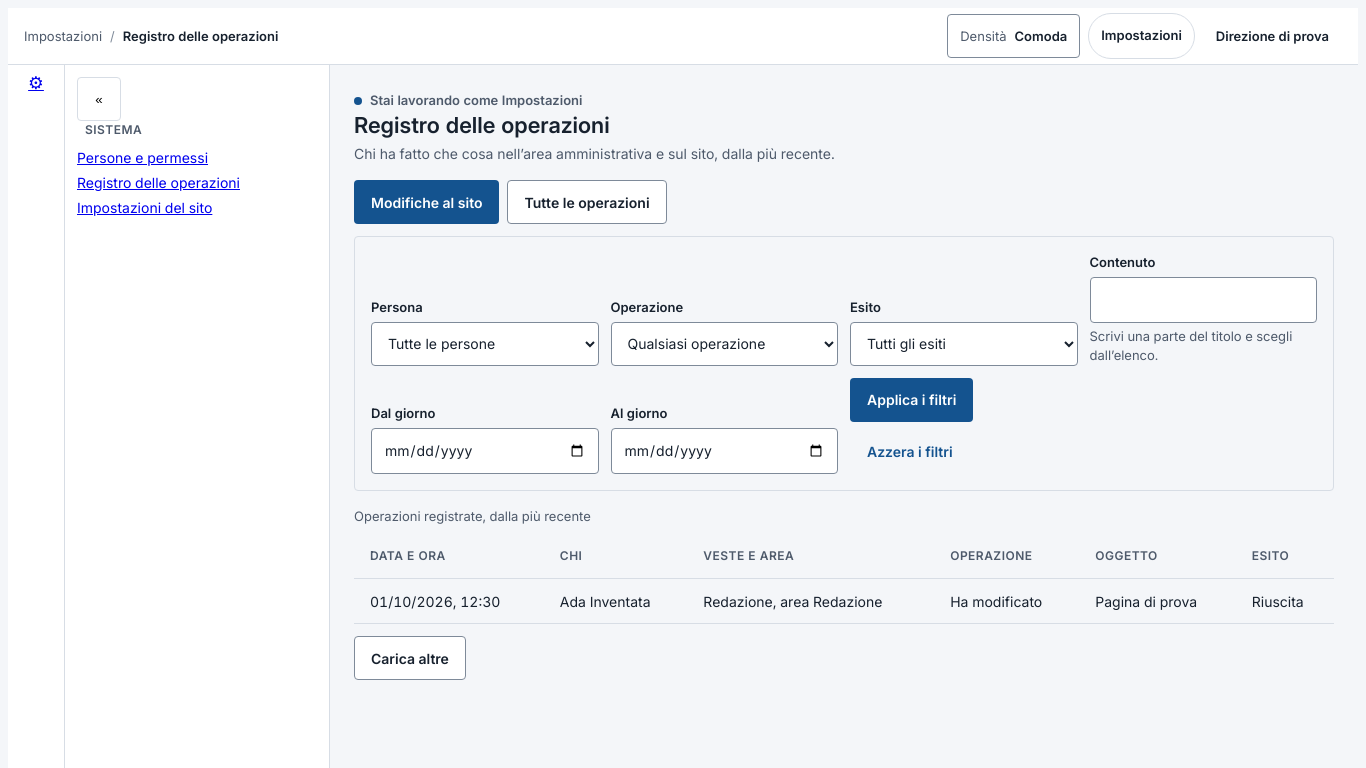
Test: registro delle operazioni › m1: un «Carica altre» fallito mostra l’errore, che sparisce se il nuovo tentativo riesce
Expected: the text "Ha modificato" is shown, [934,579,1079,624]
What coordinates should you click on to do the following:
click the button "Carica altre"
I would click on:
 (410, 658)
Its box is [354,636,466,680].
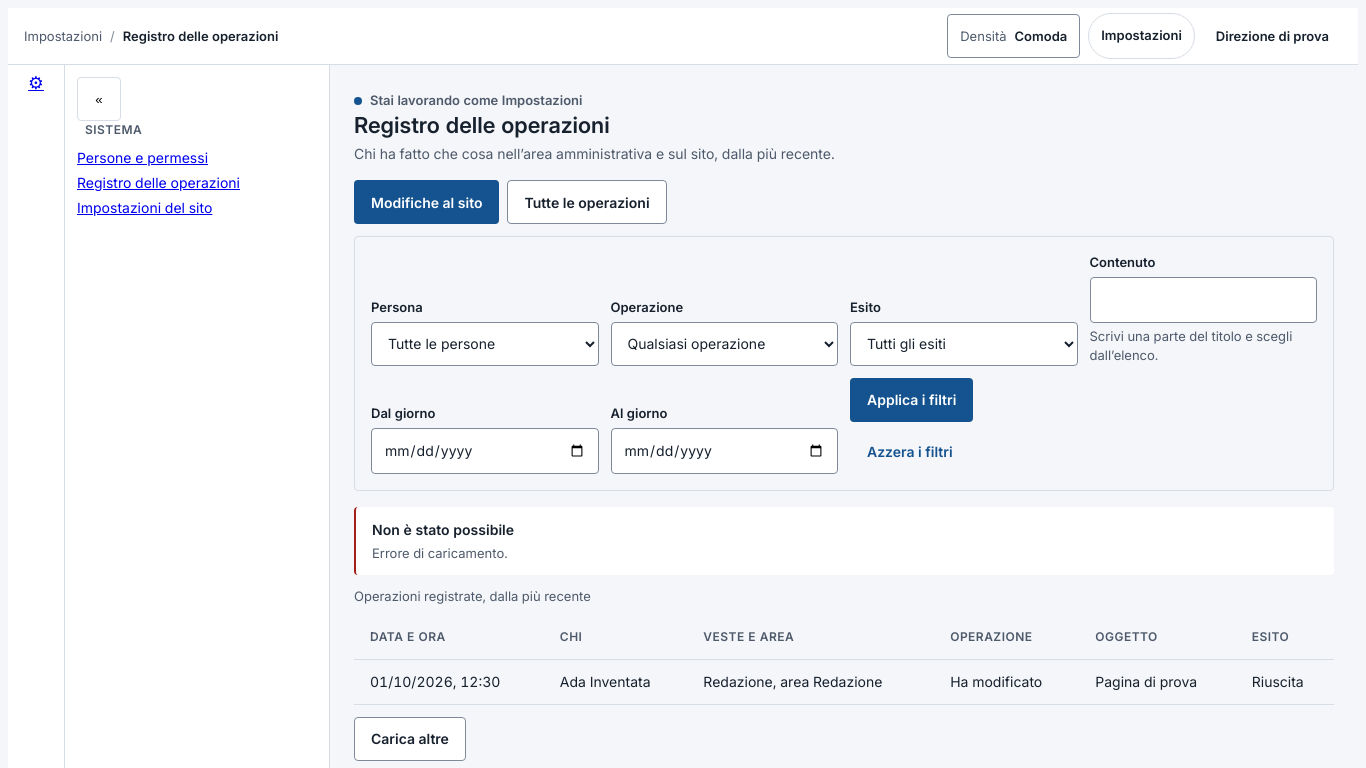
Expected: the text "Errore di caricamento." is shown, [372,545,508,561]
What coordinates should you click on to do the following:
click the button "Carica altre"
I would click on:
 (410, 739)
Its box is [354,717,466,761].
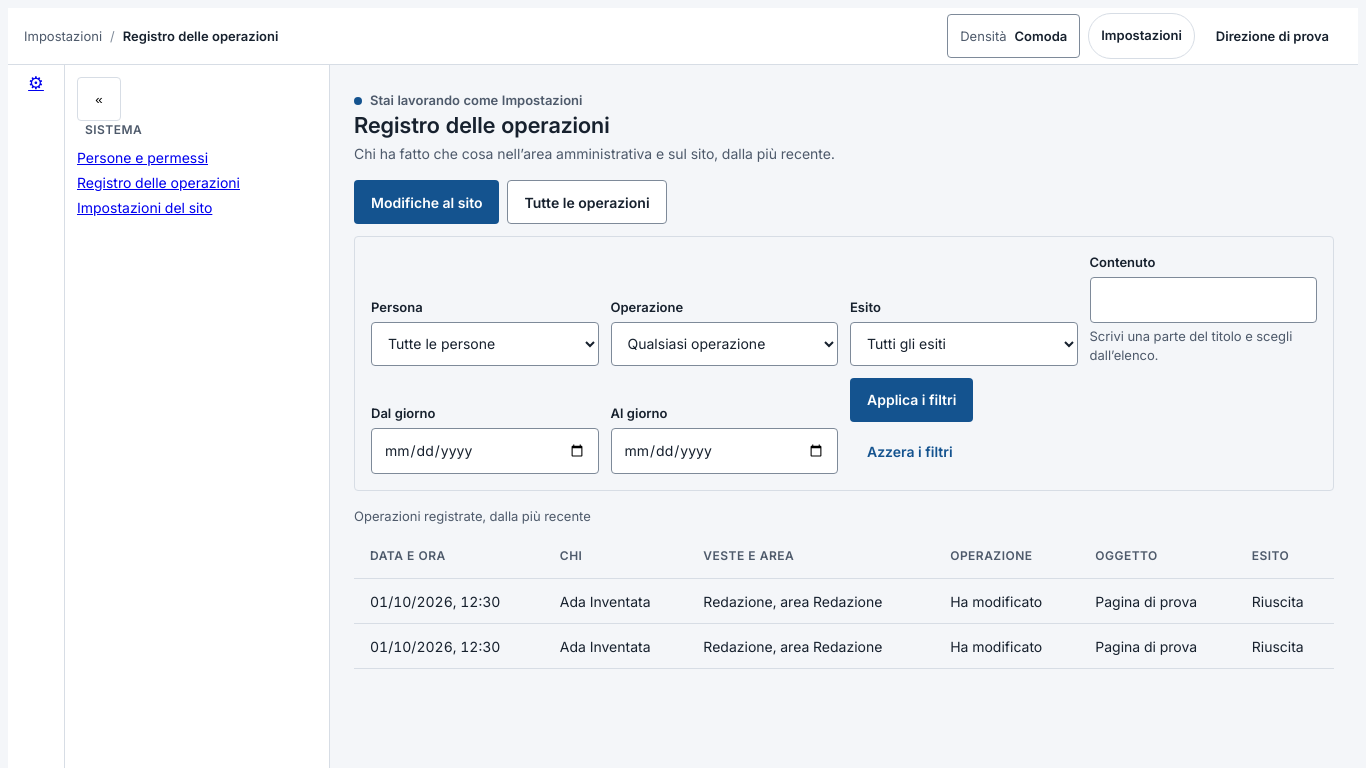
Expected: the text "Errore di caricamento." is gone
